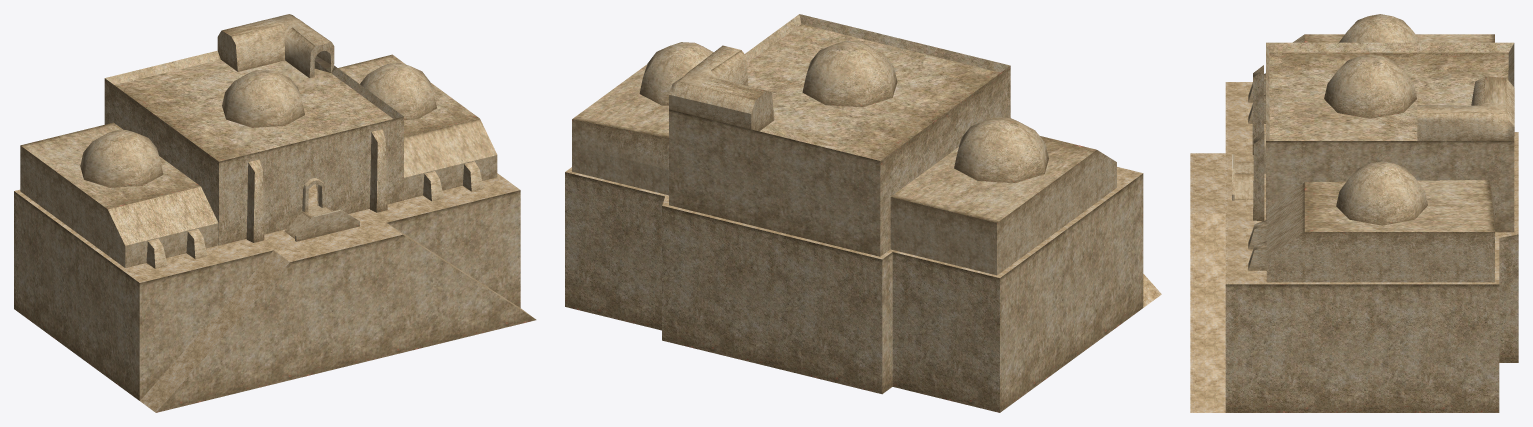
Rendered from ply_tato_assoc_hall_civ_s02_r0_mesh_l1.fbx.
3 renders of one model, left to right at view 1: azimuth 30°, elevation 25°; view 2: azimuth 150°, elevation 25°; view 3: azimuth 270°, elevation 25°, orthographic. The views are drawn at different scales.
Visible parts, largest first — view 1: mesh_node; view 2: mesh_node; view 3: mesh_node.
Boxes of the visible parts, bbox=[...] form: mesh_node: bbox=[14, 14, 536, 412]; mesh_node: bbox=[565, 14, 1161, 412]; mesh_node: bbox=[1190, 14, 1518, 412].
Bounding box in the file's own units: 54.03 × 31.48 × 37.08.
2 materials, 2 textured.
